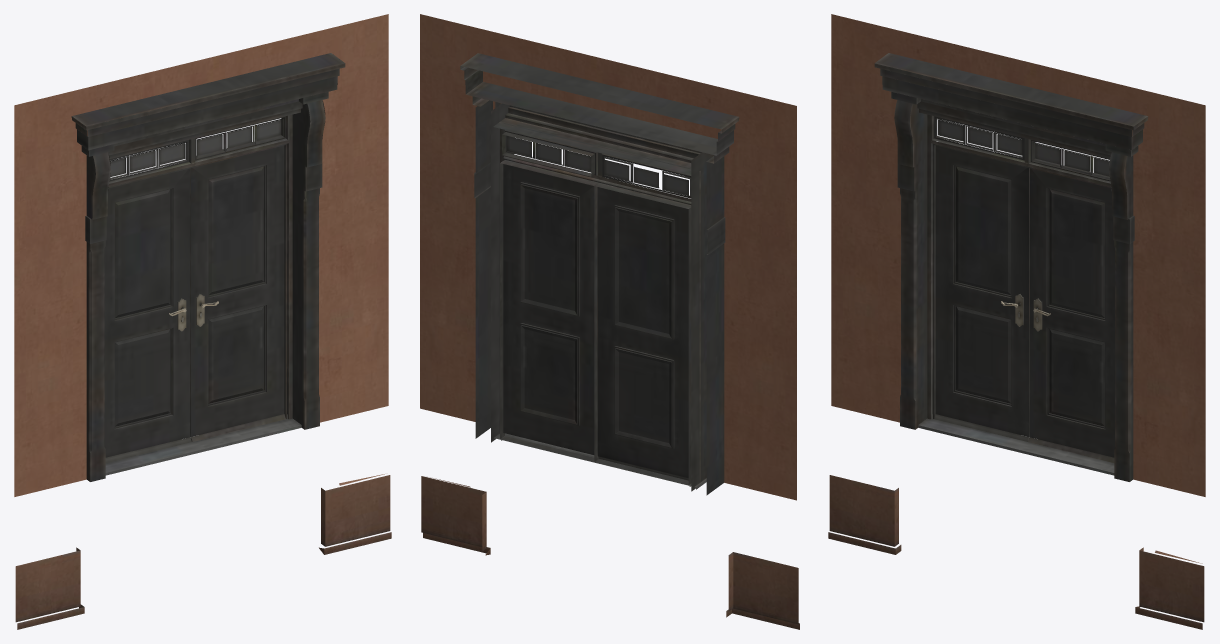
The model's file is modular_urban_apartments_facade_1k.gltf.
The picture shows the model from 3 angles, left to right: view 1: azimuth 30°, elevation 25°; view 2: azimuth 150°, elevation 25°; view 3: azimuth 330°, elevation 25°; orthographic projection.
Parts seen in each view (by area): view 1: door_centered_large_01_LOD0, wall_door_centered_large_01_LOD0, dado_door_centered_large_01_LOD0; view 2: door_centered_large_01_LOD0, wall_door_centered_large_01_LOD0, dado_door_centered_large_01_LOD0; view 3: door_centered_large_01_LOD0, wall_door_centered_large_01_LOD0, dado_door_centered_large_01_LOD0.
Boxes of the visible parts, x1,y1,x2,y2 form: door_centered_large_01_LOD0: [71, 53, 345, 481]; wall_door_centered_large_01_LOD0: [14, 14, 388, 496]; dado_door_centered_large_01_LOD0: [15, 474, 391, 629]; door_centered_large_01_LOD0: [460, 53, 739, 495]; wall_door_centered_large_01_LOD0: [420, 14, 796, 500]; dado_door_centered_large_01_LOD0: [421, 476, 799, 629]; door_centered_large_01_LOD0: [874, 53, 1148, 481]; wall_door_centered_large_01_LOD0: [831, 14, 1205, 496]; dado_door_centered_large_01_LOD0: [828, 475, 1204, 629].
Size of what is drawn, in the model's own units: 3 by 4 by 0.4387.
Materials: 4 (4 with a texture image).
